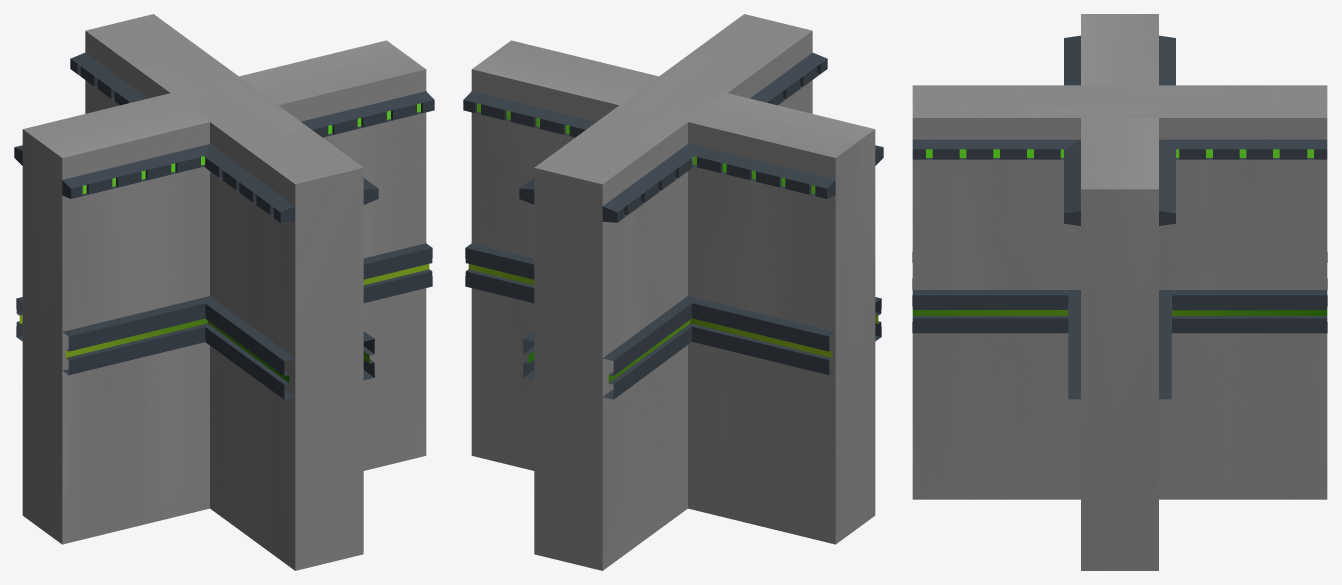
The model's file is multi wall.fbx.
The picture shows the model from 3 angles, left to right: view 1: azimuth 30°, elevation 25°; view 2: azimuth 150°, elevation 25°; view 3: azimuth 270°, elevation 25°; orthographic projection.
Parts seen in each view (by area): view 1: polySurface50; view 2: polySurface50; view 3: polySurface50.
Part boxes in pixels (bbox=[...]): polySurface50: bbox=[14, 14, 434, 570]; polySurface50: bbox=[463, 14, 883, 570]; polySurface50: bbox=[912, 14, 1327, 570].
Bounding box in the file's own units: 2.73 × 2.77 × 2.73.
Materials: 2 (2 with a texture image).
